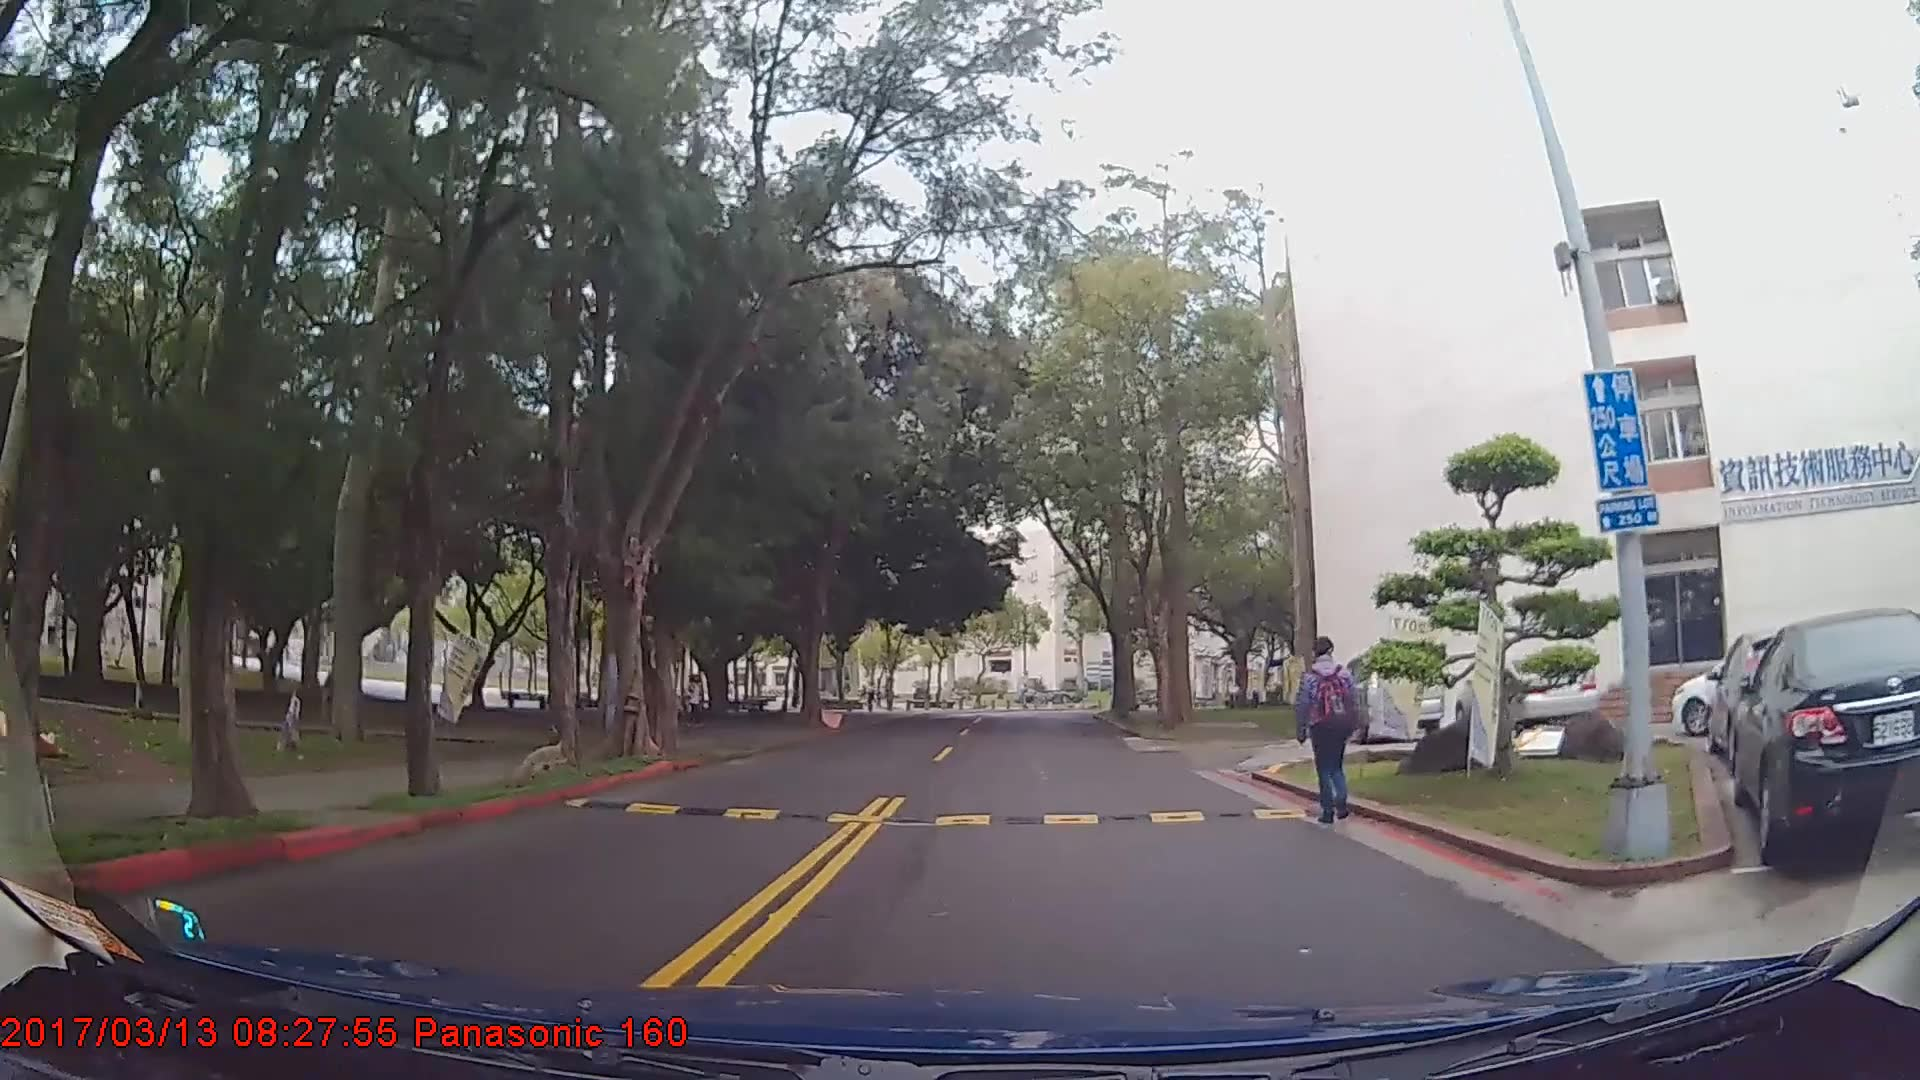pedestrian: (1294, 636, 1372, 830), (684, 670, 707, 733)
vehicle: (1729, 607, 1920, 869)
